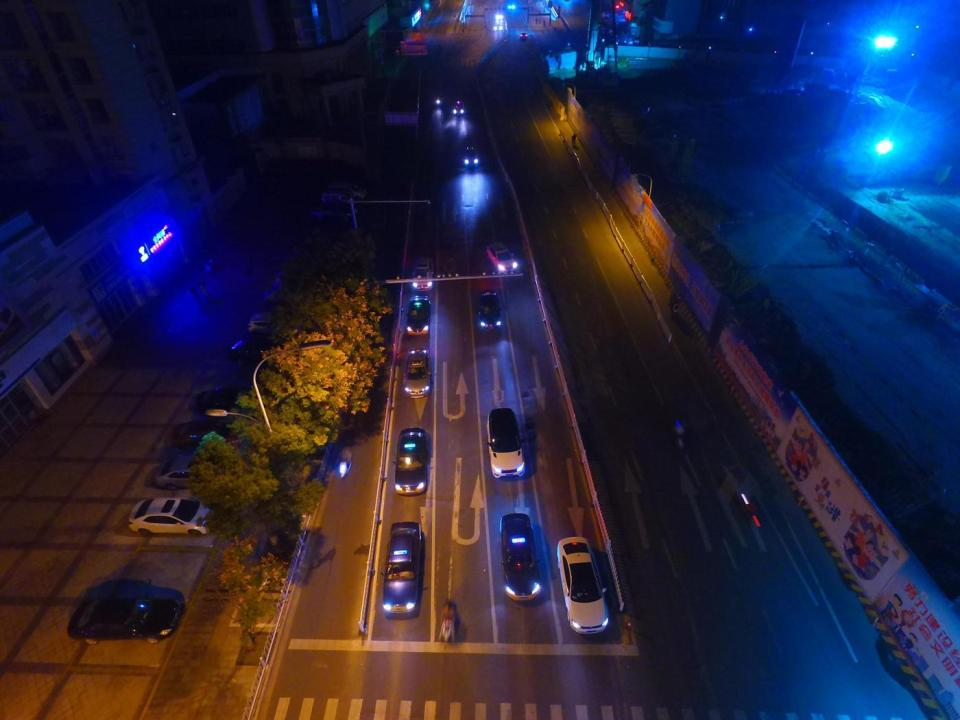car: (67, 577, 184, 644), (557, 536, 609, 636), (380, 521, 423, 617), (501, 510, 543, 601), (126, 494, 214, 536), (486, 407, 526, 479), (162, 419, 242, 455), (146, 454, 223, 487), (394, 428, 429, 494), (245, 309, 307, 338), (402, 348, 433, 399), (229, 336, 284, 362), (484, 239, 519, 274), (477, 288, 502, 334), (406, 293, 432, 336), (320, 184, 368, 206), (411, 253, 434, 290), (461, 143, 480, 167), (450, 98, 466, 116), (506, 0, 516, 10), (519, 32, 529, 40), (494, 23, 502, 31), (494, 12, 502, 20)
